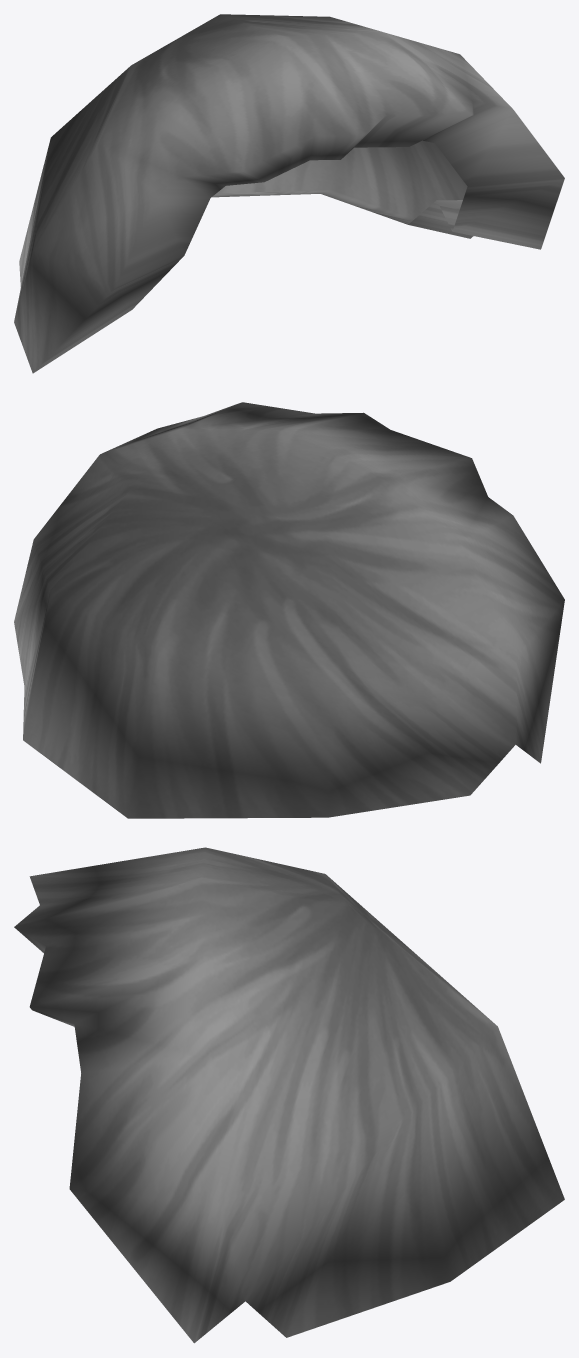
The model's file is NPC_Hair_008.fbx.
The picture shows the model from 3 angles, top to bottom: view 1: azimuth 30°, elevation 25°; view 2: azimuth 150°, elevation 25°; view 3: azimuth 270°, elevation 25°; orthographic projection. The views are drawn at different scales.
Parts seen in each view (by area): view 1: NPC_Hair_008; view 2: NPC_Hair_008; view 3: NPC_Hair_008.
Boxes of the visible parts, <box> form: NPC_Hair_008: <box>14,14,564,373</box>; NPC_Hair_008: <box>14,402,564,818</box>; NPC_Hair_008: <box>14,847,564,1343</box>.
Bounding box in the file's own units: 31.78 × 16.92 × 25.55.
